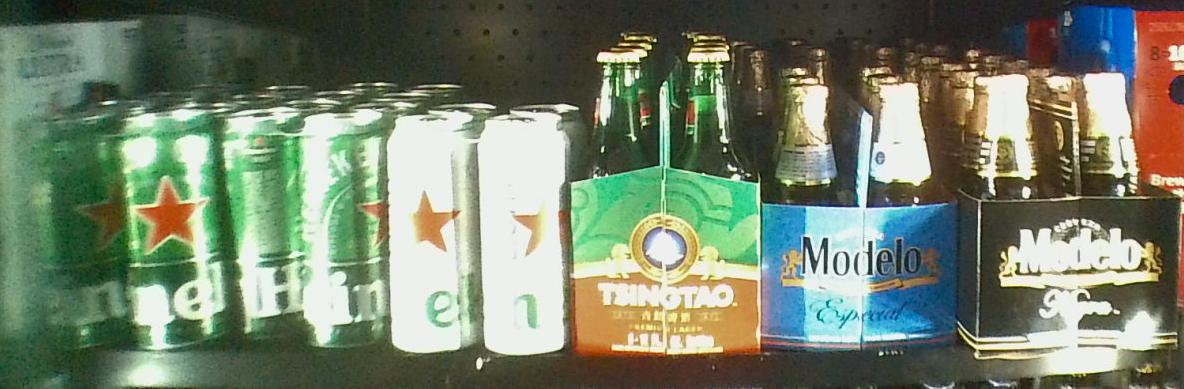bottle: (962, 74, 1172, 349), (578, 41, 762, 351), (764, 71, 956, 347), (25, 107, 231, 350), (392, 116, 571, 353), (224, 99, 391, 351)
